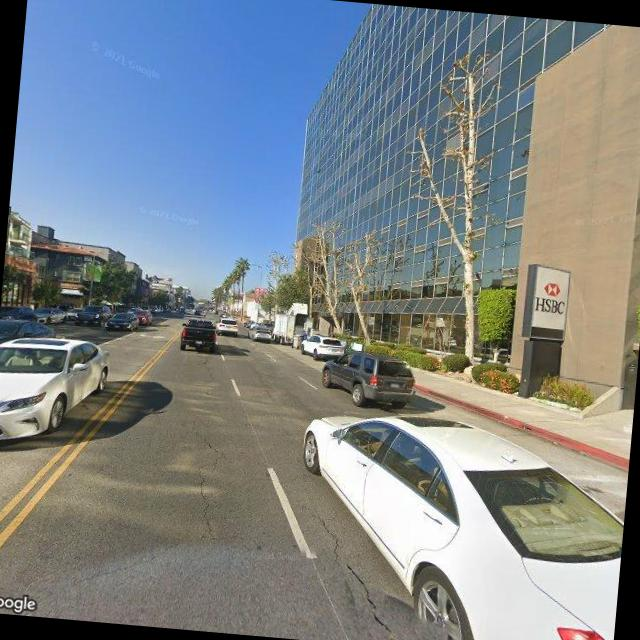crack: (295, 502, 414, 640), (178, 419, 226, 544)
